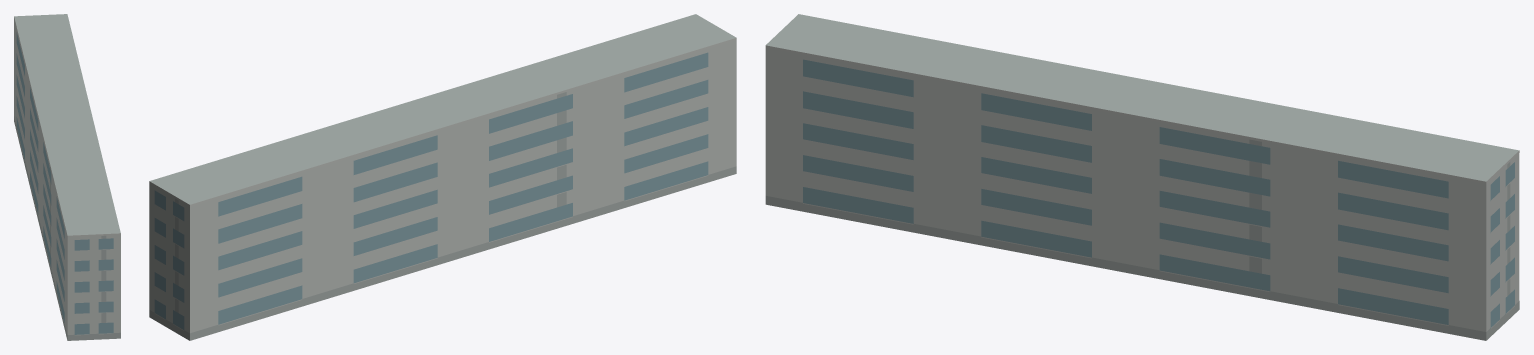
File: residential-e04b5294-f489-4b0b-8a21-d400680a7449.glb
3 renders of one model, left to right at view 1: azimuth 30°, elevation 25°; view 2: azimuth 150°, elevation 25°; view 3: azimuth 270°, elevation 25°, orthographic. The views are drawn at different scales.
Parts seen in each view (by area): view 1: residential-e04b5294-f489-4b0b-8a21-d400680a7449.tmp; view 2: residential-e04b5294-f489-4b0b-8a21-d400680a7449.tmp; view 3: residential-e04b5294-f489-4b0b-8a21-d400680a7449.tmp.
Part boxes in pixels (x1,y1,x2,y2): residential-e04b5294-f489-4b0b-8a21-d400680a7449.tmp: [14, 14, 120, 340]; residential-e04b5294-f489-4b0b-8a21-d400680a7449.tmp: [149, 14, 736, 340]; residential-e04b5294-f489-4b0b-8a21-d400680a7449.tmp: [765, 14, 1519, 340].
Size of the model in its own units: 34.45 by 15.25 by 65.44.
